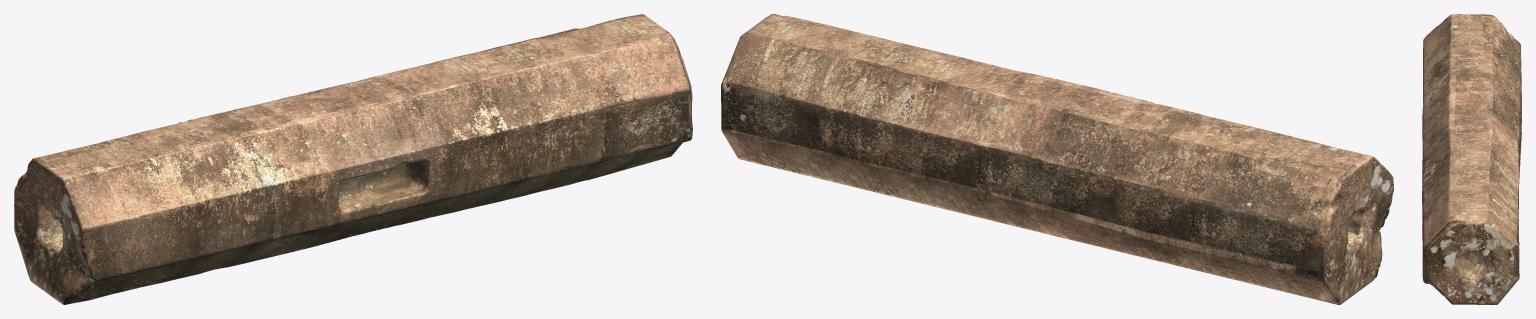
Rendered from 27_MysonSanctuaryB_Trucot_final.glb.
The picture shows the model from 3 angles, left to right: view 1: azimuth 30°, elevation 25°; view 2: azimuth 150°, elevation 25°; view 3: azimuth 270°, elevation 25°; orthographic projection. The views are drawn at different scales.
Size of the model in its own units: 2.51 by 0.502 by 0.5144.
1 material, 1 textured.
